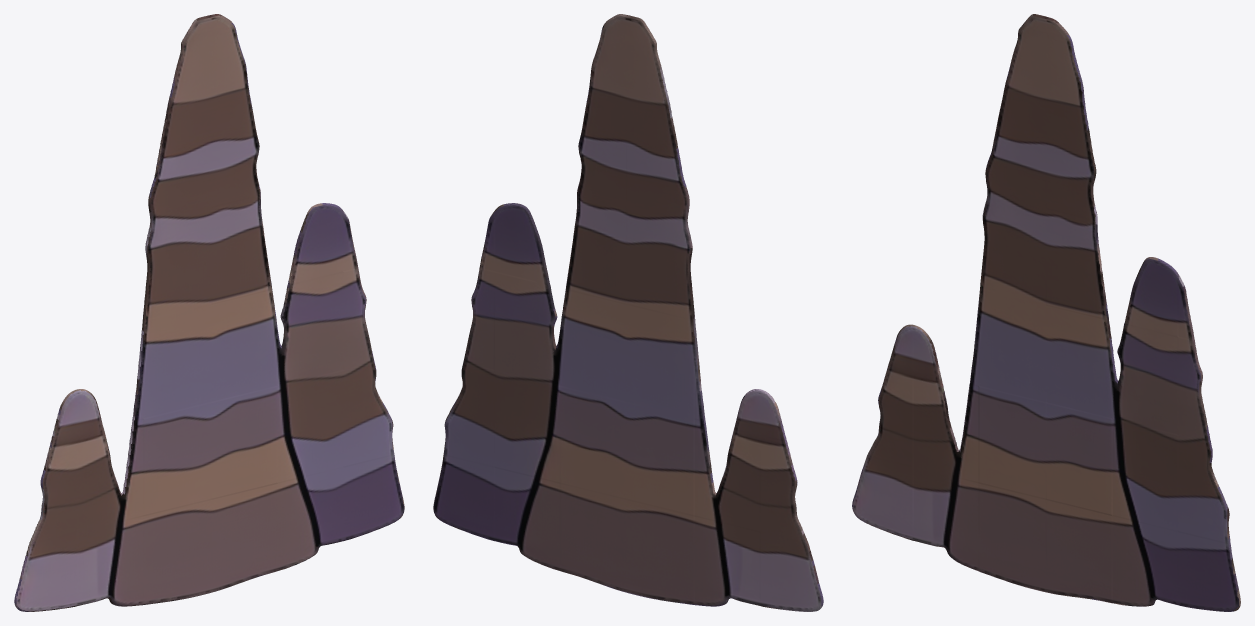
Rendered from rock_formation.glb.
3 renders of one model, left to right at view 1: azimuth 30°, elevation 25°; view 2: azimuth 150°, elevation 25°; view 3: azimuth 330°, elevation 25°, orthographic.
Visible parts, largest first — view 1: tmp98u_onge.ply; view 2: tmp98u_onge.ply; view 3: tmp98u_onge.ply.
Part boxes in pixels (x1,y1,x2,y2): tmp98u_onge.ply: (14, 14, 404, 611); tmp98u_onge.ply: (433, 14, 823, 611); tmp98u_onge.ply: (852, 14, 1240, 611).
Size of the model in its own units: 1.41 by 1.99 by 0.0143.
Materials: 1 (1 with a texture image).
